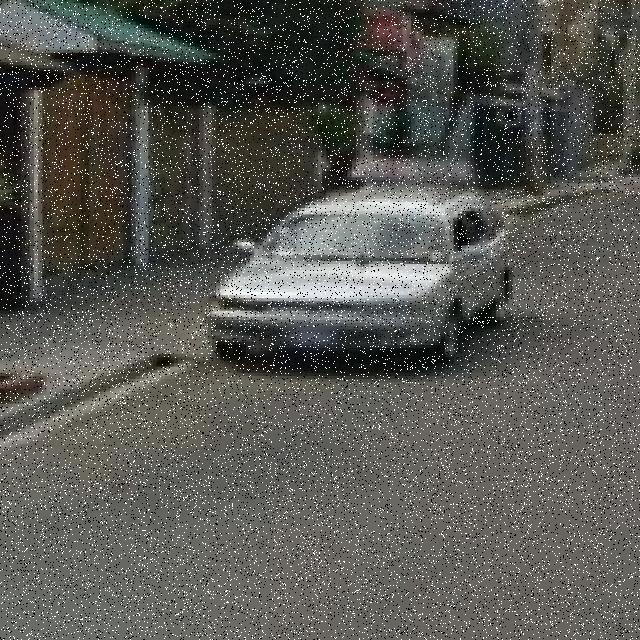cars: (224, 182, 520, 371)
